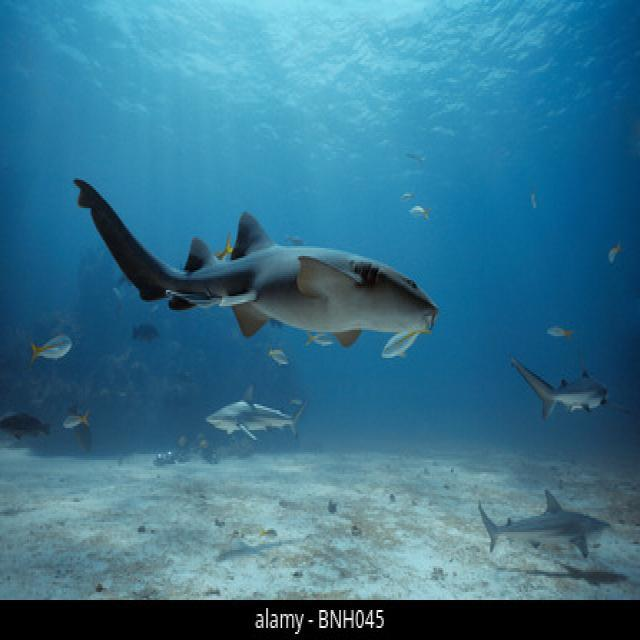Shark: (47, 110, 450, 394)
